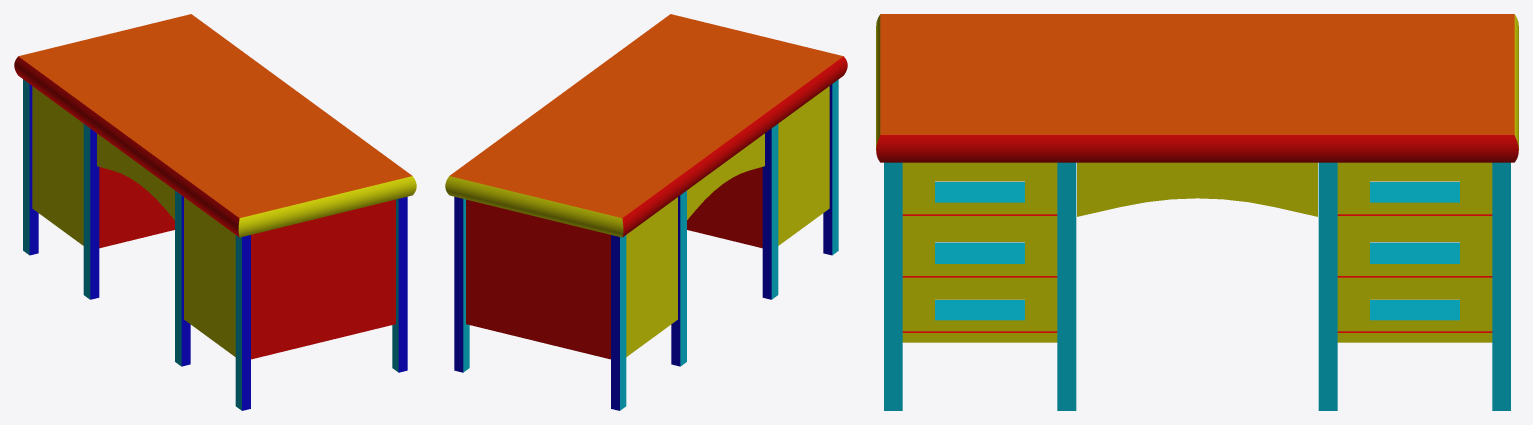
File: CT_Desk.fbx
3 views of the same model, side by side, from view 1: azimuth 30°, elevation 25°; view 2: azimuth 150°, elevation 25°; view 3: azimuth 270°, elevation 25° (orthographic). The views are drawn at different scales.
Visible parts, largest first — view 1: Desk-low; view 2: Desk-low; view 3: Desk-low.
Boxes of the visible parts, x1,y1,x2,y2 form: Desk-low: (14,14,416,410); Desk-low: (445,14,847,410); Desk-low: (876,14,1518,410).
Size of the model in its own units: 1.44 by 1.5 by 3.14.
